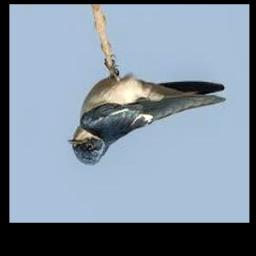Swallow: (68, 65, 226, 166)
